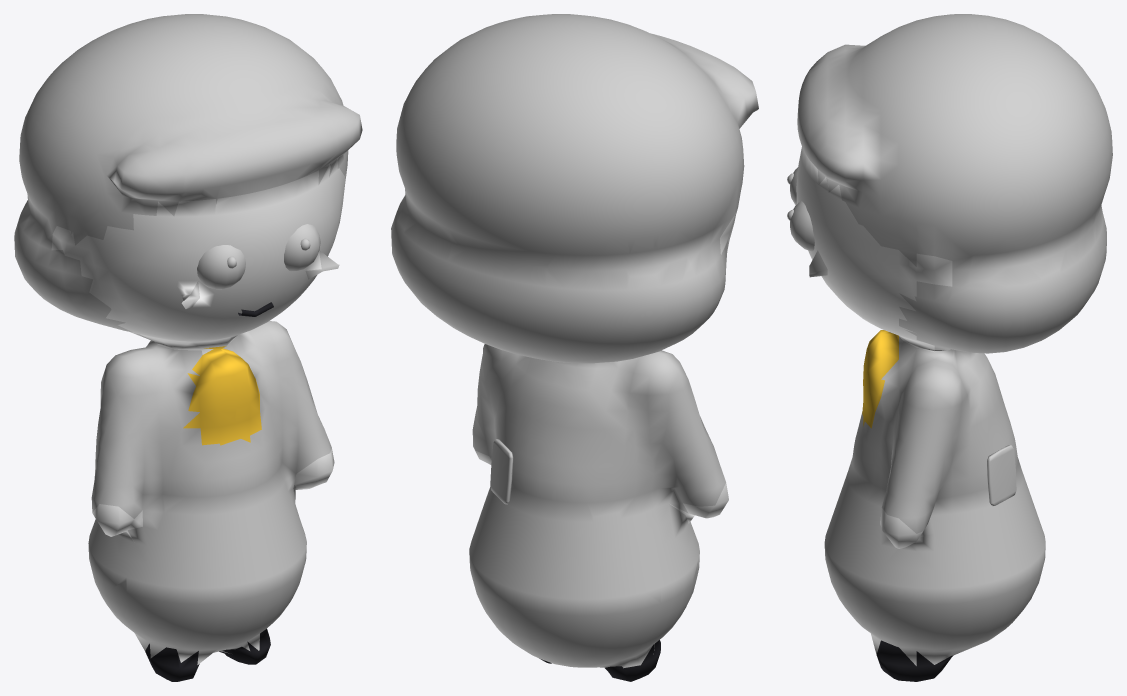
File: idol_girl_c.fbx
3 renders of one model, left to right at view 1: azimuth 30°, elevation 25°; view 2: azimuth 150°, elevation 25°; view 3: azimuth 270°, elevation 25°, orthographic. The views are drawn at different scales.
Parts seen in each view (by area): view 1: idol_girl_c; view 2: idol_girl_c; view 3: idol_girl_c.
Boxes of the visible parts, bbox=[...] form: idol_girl_c: bbox=[14, 14, 362, 681]; idol_girl_c: bbox=[391, 14, 758, 681]; idol_girl_c: bbox=[787, 14, 1112, 681].
Size of the model in its own units: 0.619 by 1.24 by 0.5864.
